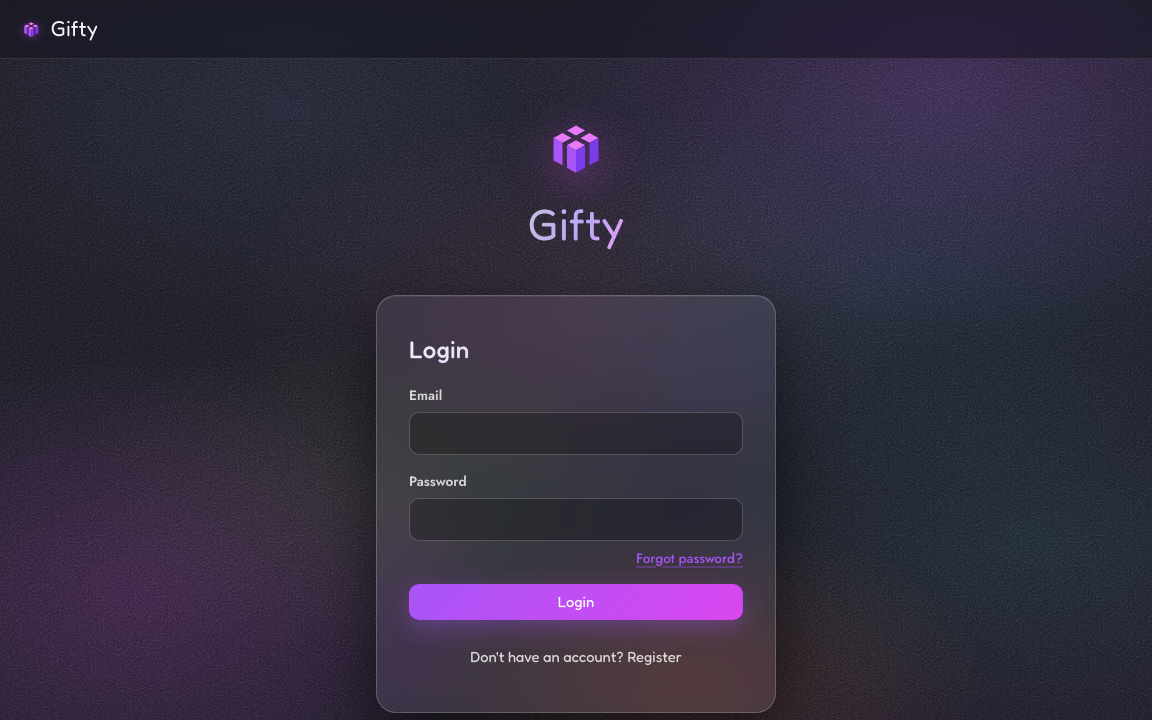
Test: App login flow › shows the logged-in username immediately after auth succeeds
Type "alice@example.com" into the field labelled "Email".
click(576, 434); type("alice@example.com")  # box x1=409 y1=412 x2=743 y2=455
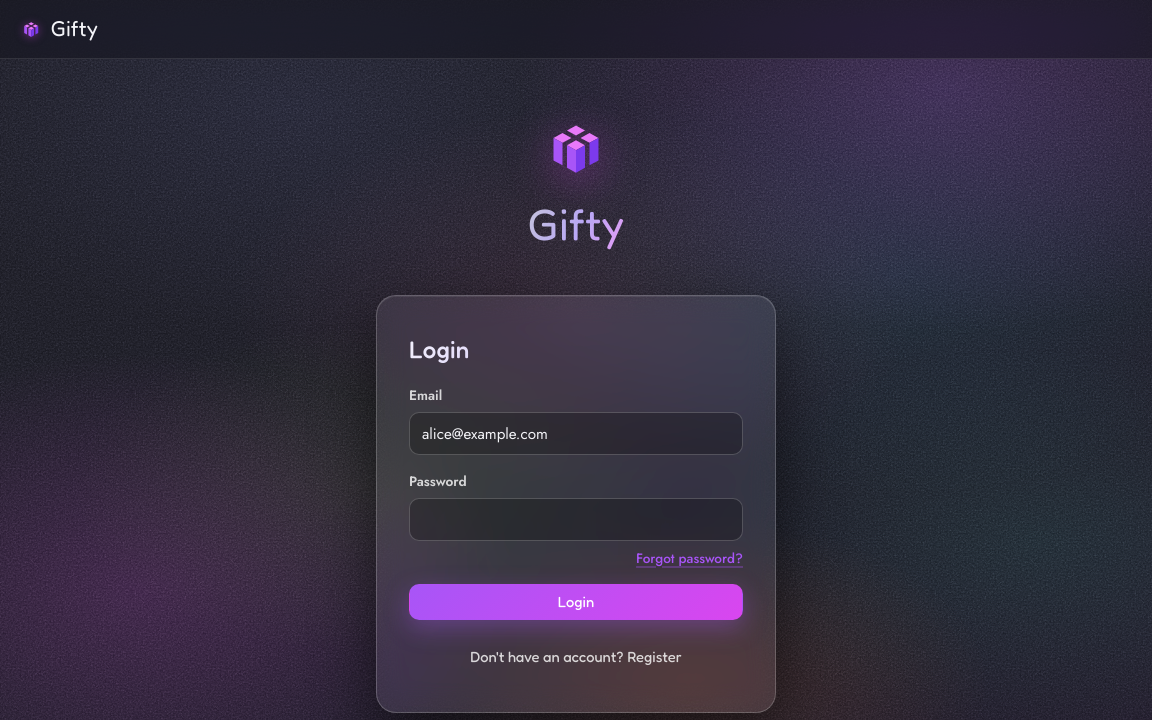
Type "secret" into the password field labelled "Password".
click(576, 520); type("secret")  # box x1=409 y1=498 x2=743 y2=541
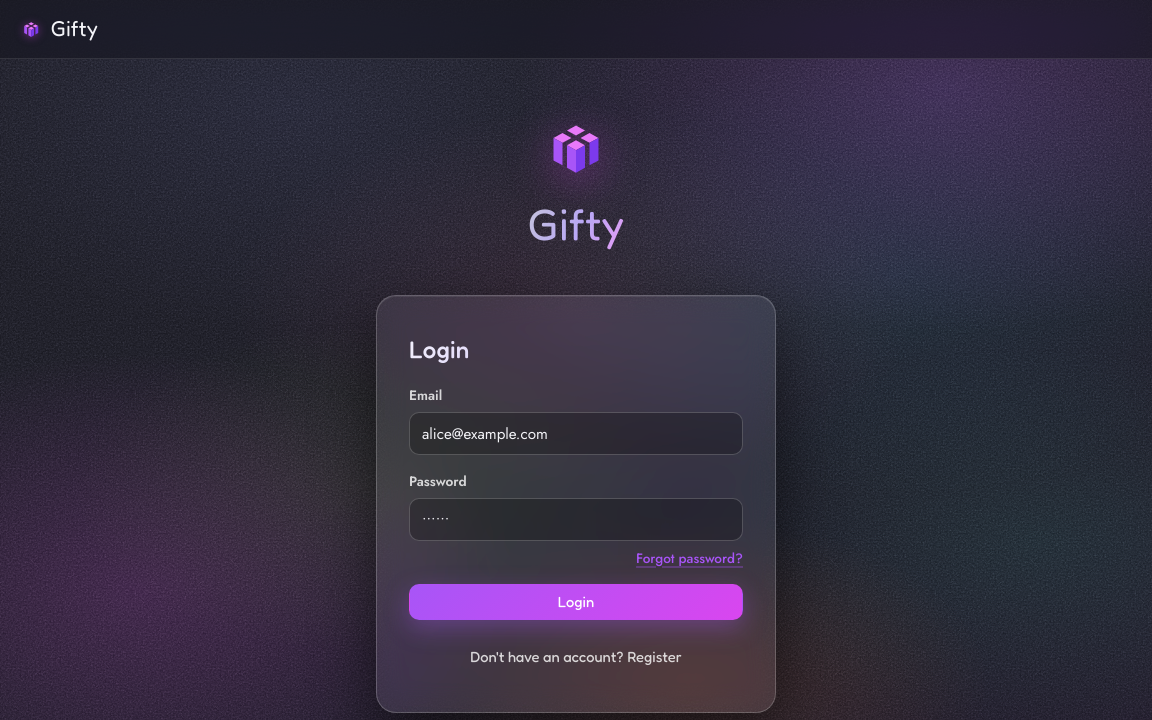
Submit the form, box x1=409 y1=385 x2=743 y2=620
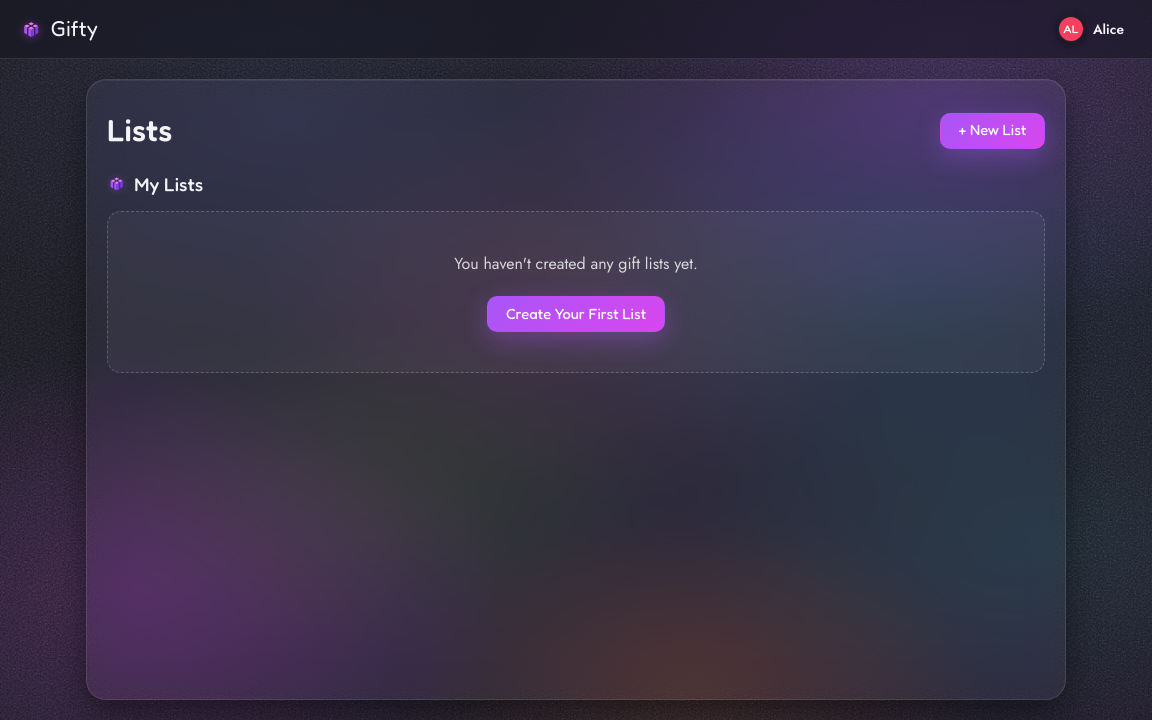
Check: the text "Alice" is shown, box x1=1093 y1=19 x2=1124 y2=39
